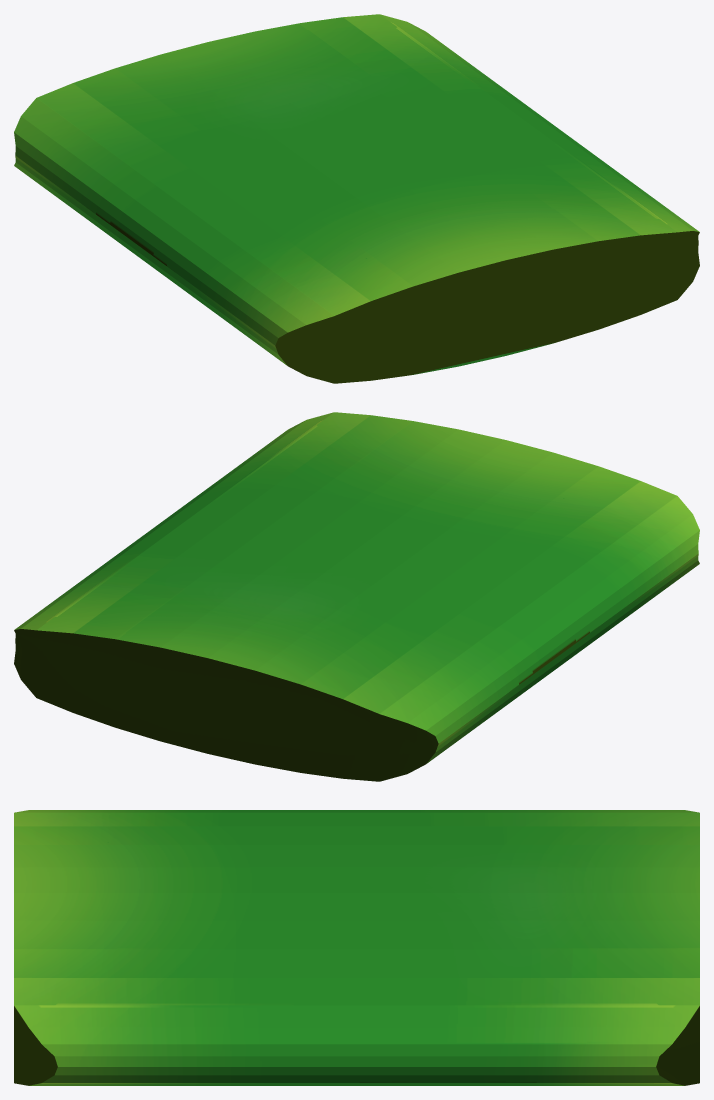
File: hojaTamal.obj
The picture shows the model from 3 angles, top to bottom: view 1: azimuth 30°, elevation 25°; view 2: azimuth 150°, elevation 25°; view 3: azimuth 270°, elevation 25°; orthographic projection. The views are drawn at different scales.
Visible parts, largest first — view 1: Cylinder.004; view 2: Cylinder.004; view 3: Cylinder.004.
Part boxes in pixels (<box>): Cylinder.004: <box>14,14,699,383</box>; Cylinder.004: <box>14,412,699,781</box>; Cylinder.004: <box>14,810,699,1085</box>.
Bounding box in the file's own units: 1.64 × 0.3544 × 2.
